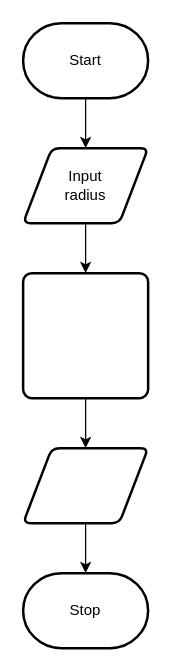
Some shapes in this 170 by 670 pixel diagram are drawn without their labels. The shapes that lost their labels are listed below. From the top down, each one's centre as x and y in pixels, then its label:
the point at 85,335: calculates
the point at 85,485: Output volume
